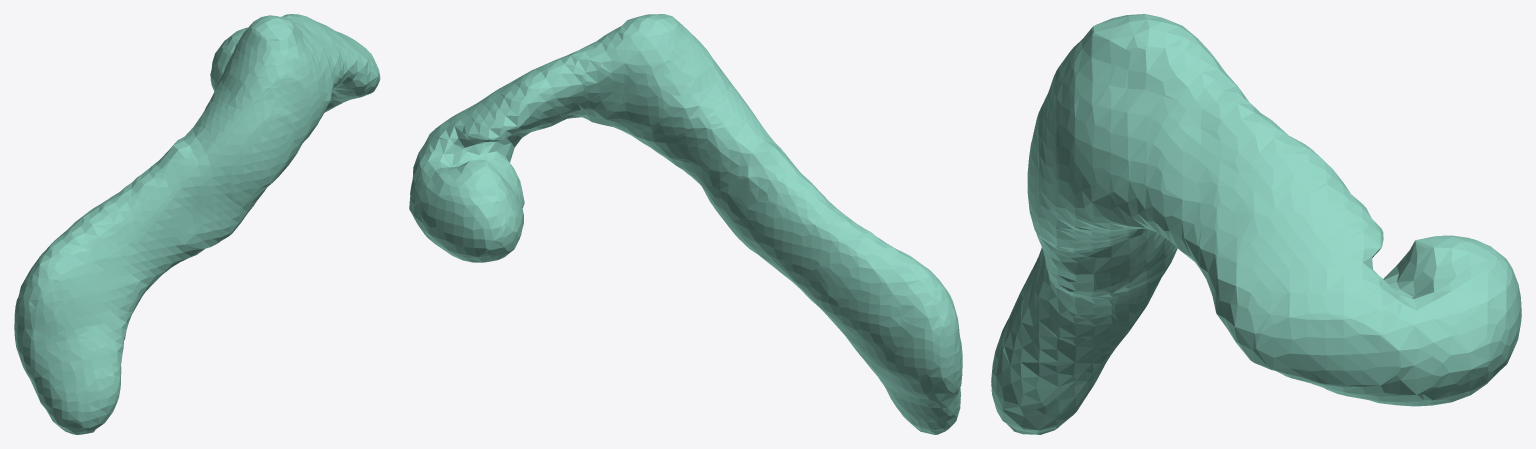
Rendered from ours.glb.
3 renders of one model, left to right at view 1: azimuth 30°, elevation 25°; view 2: azimuth 150°, elevation 25°; view 3: azimuth 270°, elevation 25°, orthographic. The views are drawn at different scales.
Visible parts, largest first — view 1: world; view 2: world; view 3: world.
Boxes of the visible parts, box(x1,y1,x2,y2) form: world: box(14, 14, 380, 434); world: box(409, 14, 962, 434); world: box(991, 14, 1521, 434).
Size of the model in its own units: 0.7401 by 0.5821 by 0.4623.
